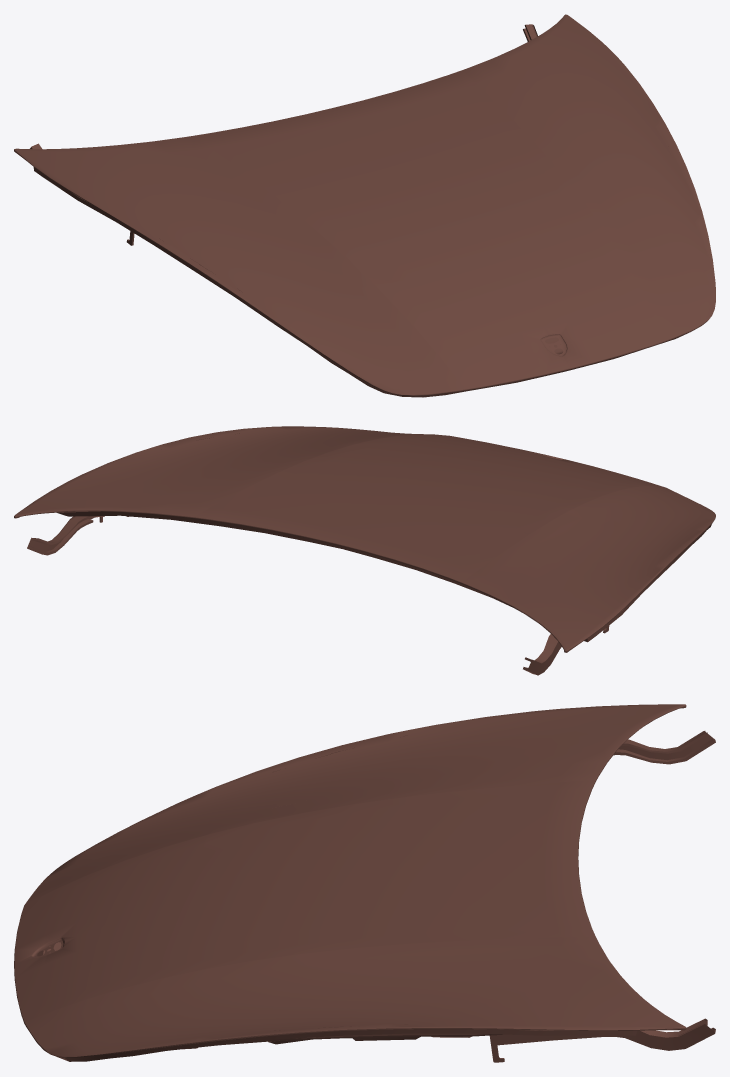
Rendered from Capota_Maro.fbx.
3 views of the same model, one above another, from view 1: azimuth 30°, elevation 25°; view 2: azimuth 150°, elevation 25°; view 3: azimuth 270°, elevation 25° (orthographic). The views are drawn at different scales.
Visible parts, largest first — view 1: bonneT; view 2: bonneT; view 3: bonneT.
Part boxes in pixels (box(x1,y1,x2,y2)): bonneT: box(14, 14, 715, 397); bonneT: box(14, 426, 715, 675); bonneT: box(14, 704, 715, 1062).
Size of the model in its own units: 2829 by 463 by 2583.
